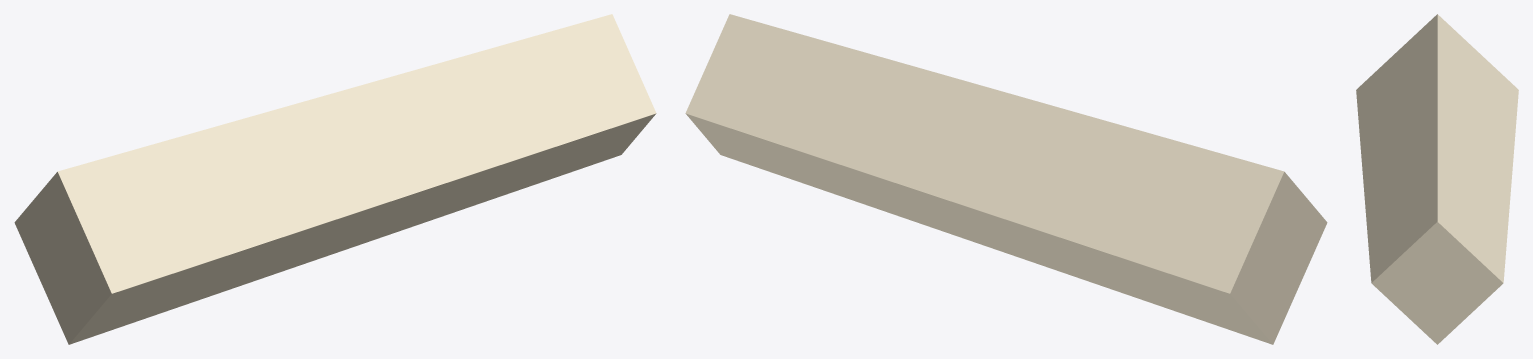
File: DroneArm.fbx
The picture shows the model from 3 angles, left to right: view 1: azimuth 30°, elevation 25°; view 2: azimuth 150°, elevation 25°; view 3: azimuth 270°, elevation 25°; orthographic projection. The views are drawn at different scales.
Parts seen in each view (by area): view 1: Body.001; view 2: Body.001; view 3: Body.001.
Part boxes in pixels (<box>): Body.001: <box>14,14,656,344</box>; Body.001: <box>685,14,1327,344</box>; Body.001: <box>1356,14,1518,344</box>.
Bounding box in the file's own units: 1.07 × 0.3594 × 0.32.
